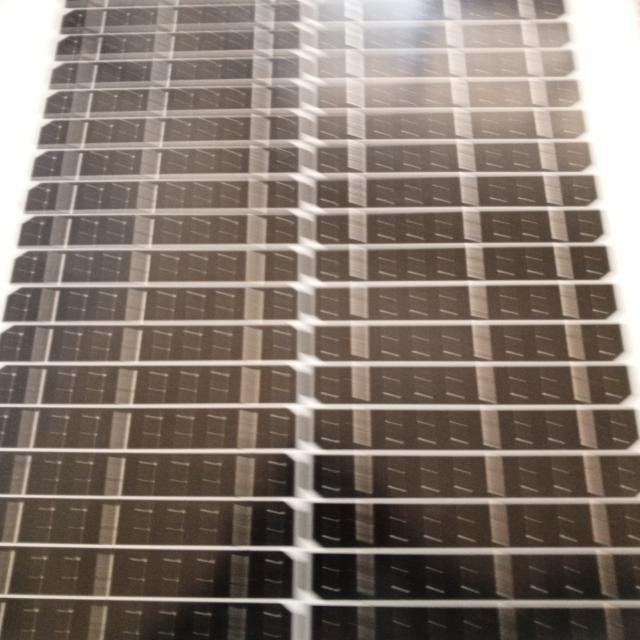Clean: (32, 10, 640, 635)
